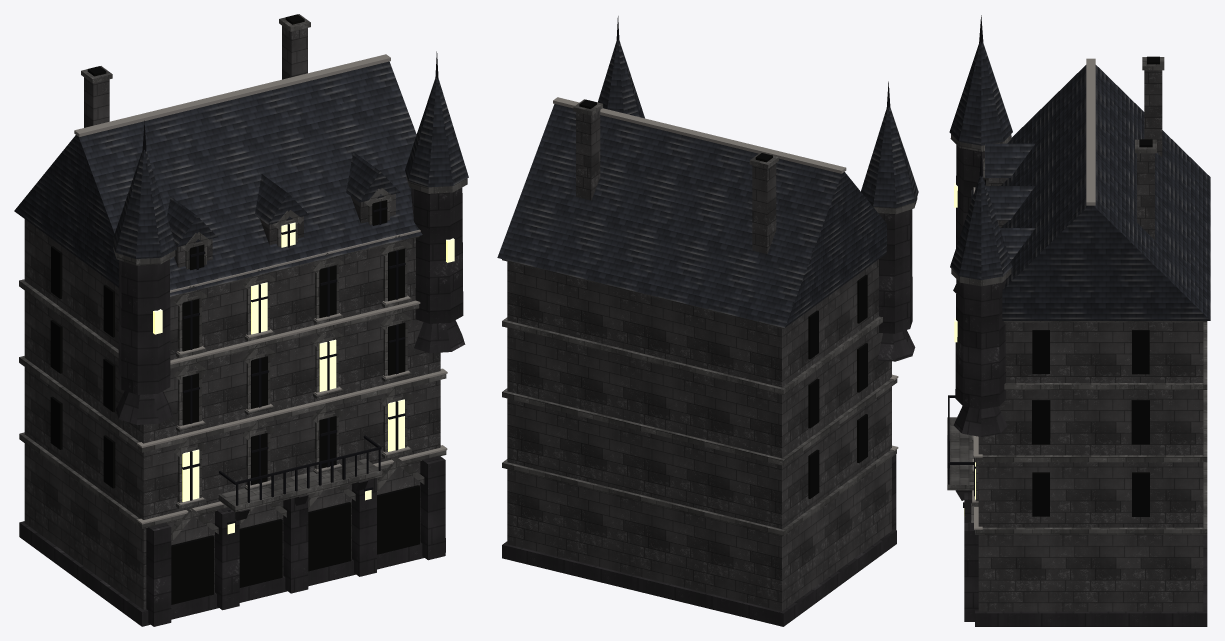
File: CasaGotica.gltf
3 views of the same model, side by side, from view 1: azimuth 30°, elevation 25°; view 2: azimuth 150°, elevation 25°; view 3: azimuth 270°, elevation 25° (orthographic). The views are drawn at different scales.
Visible parts, largest first — view 1: CasaGotica; view 2: CasaGotica; view 3: CasaGotica.
Part boxes in pixels (x1,y1,x2,y2): CasaGotica: (14,14,468,626); CasaGotica: (497,16,918,626); CasaGotica: (947,15,1210,626).
Bounding box in the file's own units: 15.33 × 21.02 × 10.57.
9 materials, 5 textured.
